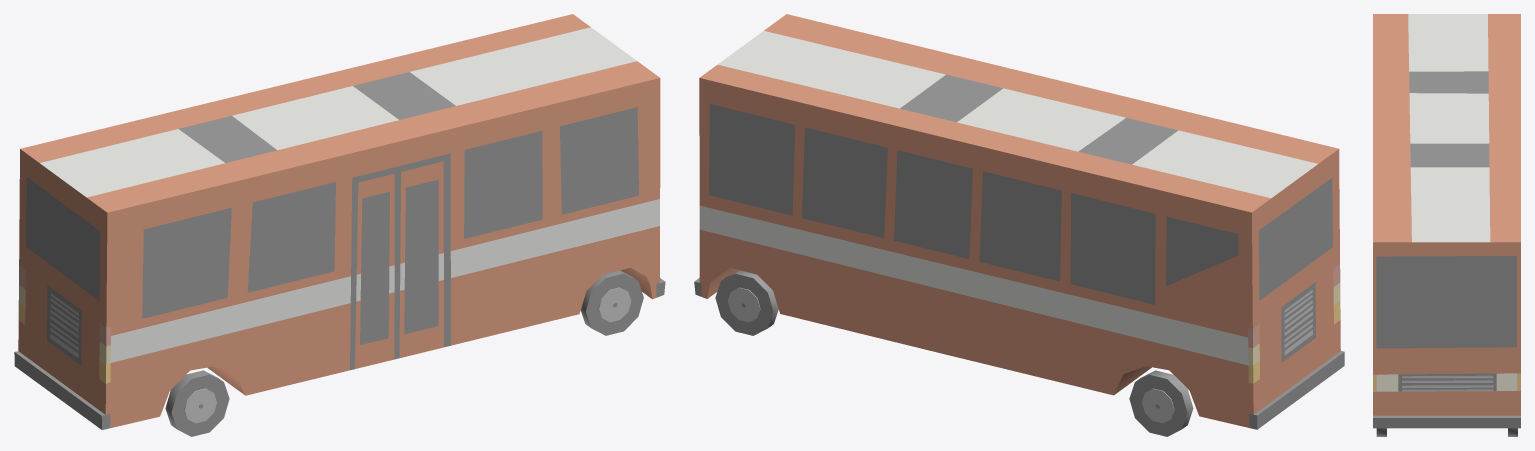
File: bus1.fbx
The picture shows the model from 3 angles, left to right: view 1: azimuth 30°, elevation 25°; view 2: azimuth 150°, elevation 25°; view 3: azimuth 270°, elevation 25°; orthographic projection. The views are drawn at different scales.
Parts seen in each view (by area): view 1: Extrude_2, Cylinder_9, Cylinder_6; view 2: Extrude_2, Cylinder_8, Cylinder_7; view 3: Extrude_2.
Boxes of the visible parts, x1=… form: Extrude_2: x1=14, y1=14, x2=665, y2=429; Cylinder_9: x1=165, y1=370, x2=229, y2=436; Cylinder_6: x1=580, y1=270, x2=643, y2=335; Extrude_2: x1=694, y1=14, x2=1344, y2=429; Cylinder_8: x1=1129, y1=370, x2=1193, y2=436; Cylinder_7: x1=715, y1=270, x2=778, y2=335; Extrude_2: x1=1373, y1=14, x2=1520, y2=428.
Size of the model in its own units: 742 by 310 by 199.
